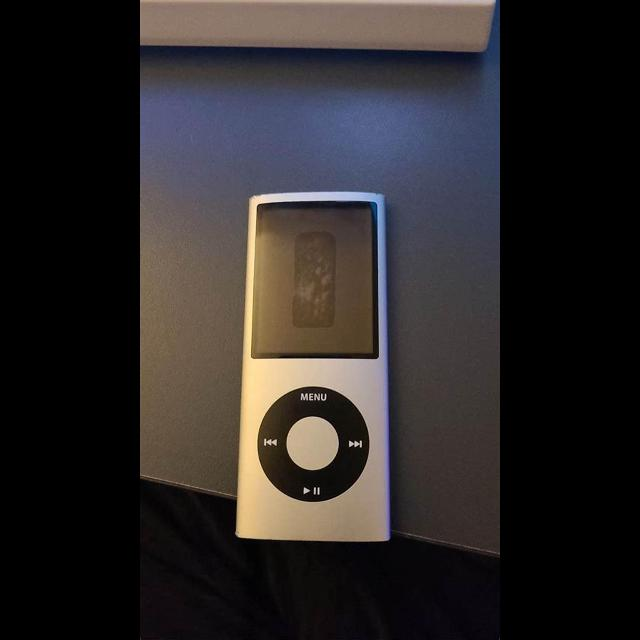Music-Player: (226, 185, 402, 553)
